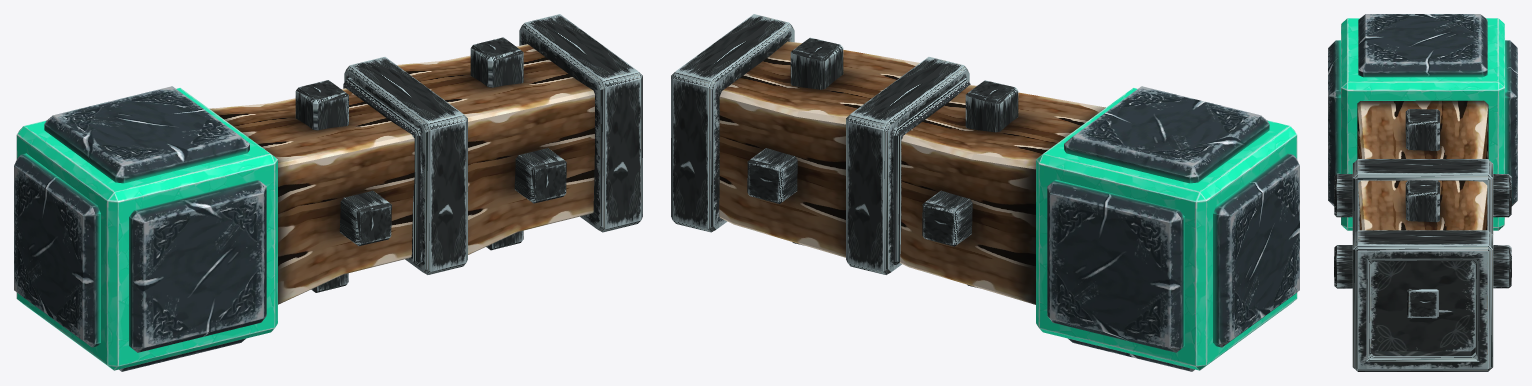
File: step_003.glb
The picture shows the model from 3 angles, left to right: view 1: azimuth 30°, elevation 25°; view 2: azimuth 150°, elevation 25°; view 3: azimuth 270°, elevation 25°; orthographic projection. The views are drawn at different scales.
Parts seen in each view (by area): view 1: SingleWoodenBlock_12c9bb10-82ed-4a1a-a479-a46bfc47bf6e, StartingBlock_74c47283-72fb-4408-a40b-371f75eef3d3; view 2: SingleWoodenBlock_12c9bb10-82ed-4a1a-a479-a46bfc47bf6e, StartingBlock_74c47283-72fb-4408-a40b-371f75eef3d3; view 3: SingleWoodenBlock_12c9bb10-82ed-4a1a-a479-a46bfc47bf6e, StartingBlock_74c47283-72fb-4408-a40b-371f75eef3d3.
Boxes of the visible parts, bbox=[...] form: SingleWoodenBlock_12c9bb10-82ed-4a1a-a479-a46bfc47bf6e: bbox=[209, 14, 642, 304]; StartingBlock_74c47283-72fb-4408-a40b-371f75eef3d3: bbox=[14, 86, 277, 371]; SingleWoodenBlock_12c9bb10-82ed-4a1a-a479-a46bfc47bf6e: bbox=[671, 14, 1105, 304]; StartingBlock_74c47283-72fb-4408-a40b-371f75eef3d3: bbox=[1036, 86, 1299, 371]; SingleWoodenBlock_12c9bb10-82ed-4a1a-a479-a46bfc47bf6e: bbox=[1334, 100, 1511, 371]; StartingBlock_74c47283-72fb-4408-a40b-371f75eef3d3: bbox=[1328, 14, 1517, 230].
Bounding box in the file's own units: 3.18 × 1.13 × 1.13.
2 materials, 2 textured.
